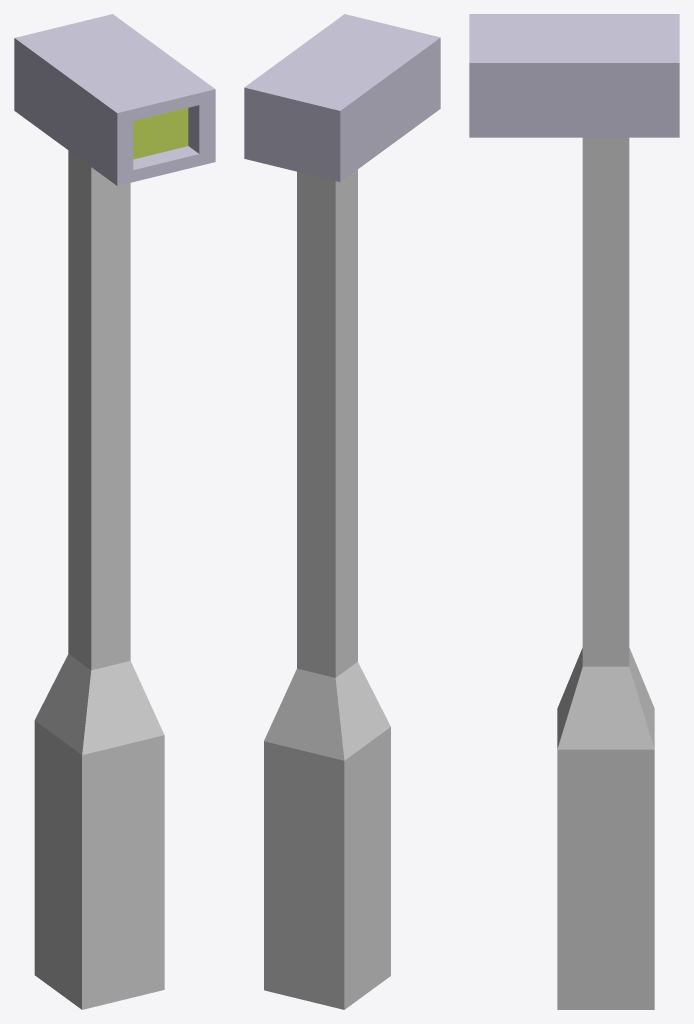
File: watch light.fbx
The picture shows the model from 3 angles, left to right: view 1: azimuth 30°, elevation 25°; view 2: azimuth 150°, elevation 25°; view 3: azimuth 270°, elevation 25°; orthographic projection. The views are drawn at different scales.
Visible parts, largest first — view 1: Cube, Cube.001; view 2: Cube, Cube.001; view 3: Cube, Cube.001.
Part boxes in pixels (left/top/right/bottom): Cube: left=34, top=150, right=164, bottom=1009; Cube.001: left=14, top=14, right=215, bottom=185; Cube: left=264, top=169, right=390, bottom=1009; Cube.001: left=244, top=14, right=440, bottom=181; Cube: left=557, top=137, right=654, bottom=1009; Cube.001: left=469, top=14, right=679, bottom=137.
Bounding box in the file's own units: 80.75 × 730 × 146.
